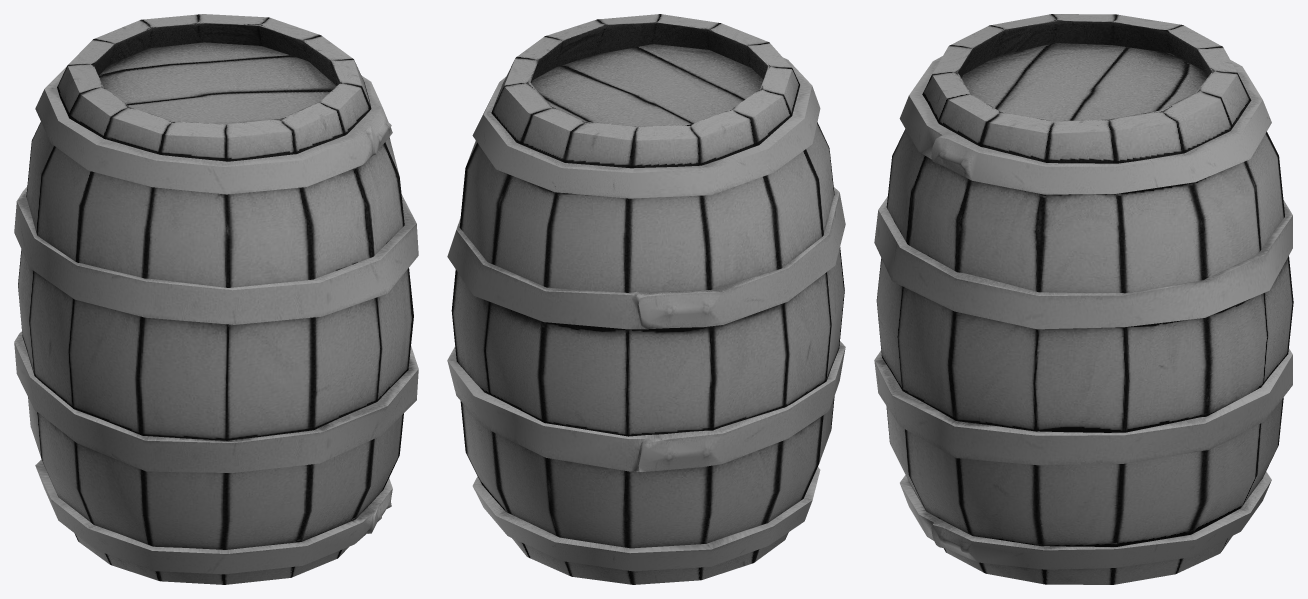
The model's file is barrels.FBX.
The picture shows the model from 3 angles, left to right: view 1: azimuth 30°, elevation 25°; view 2: azimuth 150°, elevation 25°; view 3: azimuth 270°, elevation 25°; orthographic projection. The views are drawn at different scales.
Visible parts, largest first — view 1: Barrel; view 2: Barrel; view 3: Barrel.
Part boxes in pixels (<box>): Barrel: <box>14,14,418,584</box>; Barrel: <box>447,14,845,584</box>; Barrel: <box>874,14,1293,584</box>.
Size of the model in its own units: 81.44 by 106 by 87.87.
Materials: 1 (1 with a texture image).
